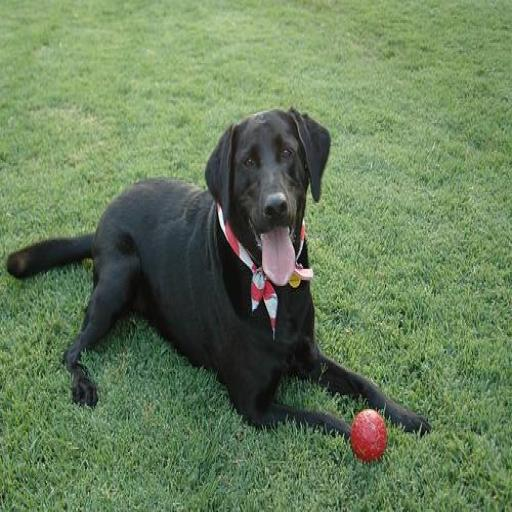dog_face: (208, 109, 332, 285)
